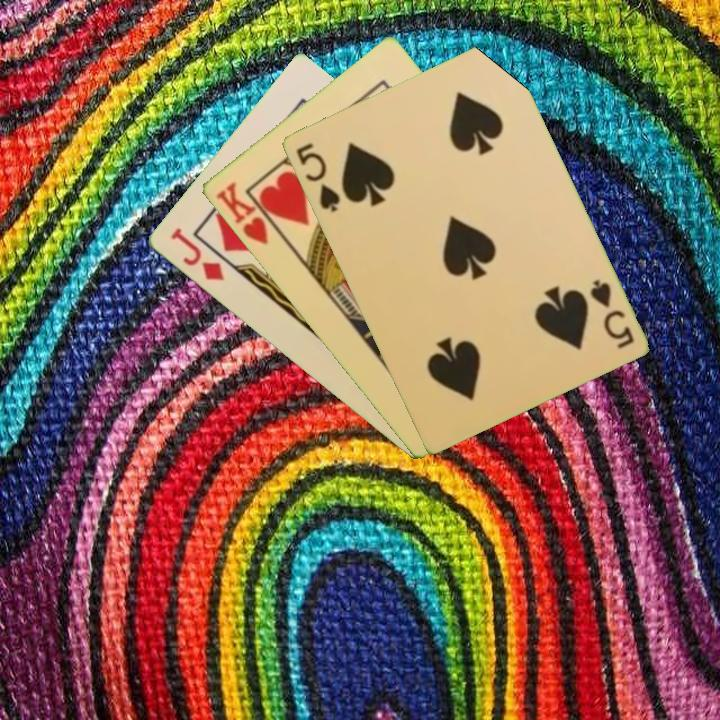5s: (292, 139, 343, 215), (585, 276, 636, 352)
Jd: (166, 224, 227, 284)
Kh: (211, 177, 285, 247)
